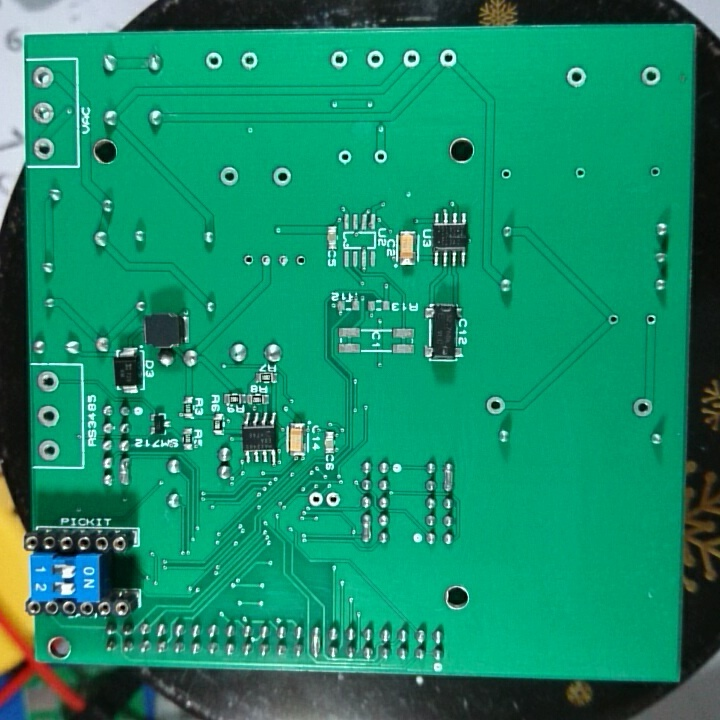F: (28, 63, 57, 92), (32, 368, 62, 395), (564, 63, 591, 90), (35, 435, 61, 463), (268, 163, 294, 190), (436, 46, 461, 74), (216, 160, 241, 188), (30, 135, 56, 161), (35, 403, 61, 429), (639, 63, 664, 89), (364, 46, 387, 74), (399, 47, 424, 72), (30, 100, 56, 124), (484, 392, 507, 416), (202, 50, 226, 73), (329, 49, 352, 72), (631, 396, 653, 420), (239, 49, 260, 73), (336, 146, 354, 169), (371, 146, 390, 167), (325, 490, 343, 510), (307, 490, 325, 509), (257, 252, 276, 269), (499, 166, 517, 183), (292, 252, 308, 271), (642, 312, 660, 328), (647, 165, 664, 181), (241, 252, 257, 269), (573, 164, 587, 183), (606, 312, 621, 328), (276, 252, 288, 270)
P: (441, 459, 457, 492), (359, 510, 373, 545), (309, 620, 321, 660), (117, 457, 132, 487)
